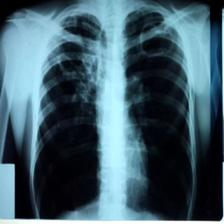tuberculosis: (28, 5, 199, 220)
